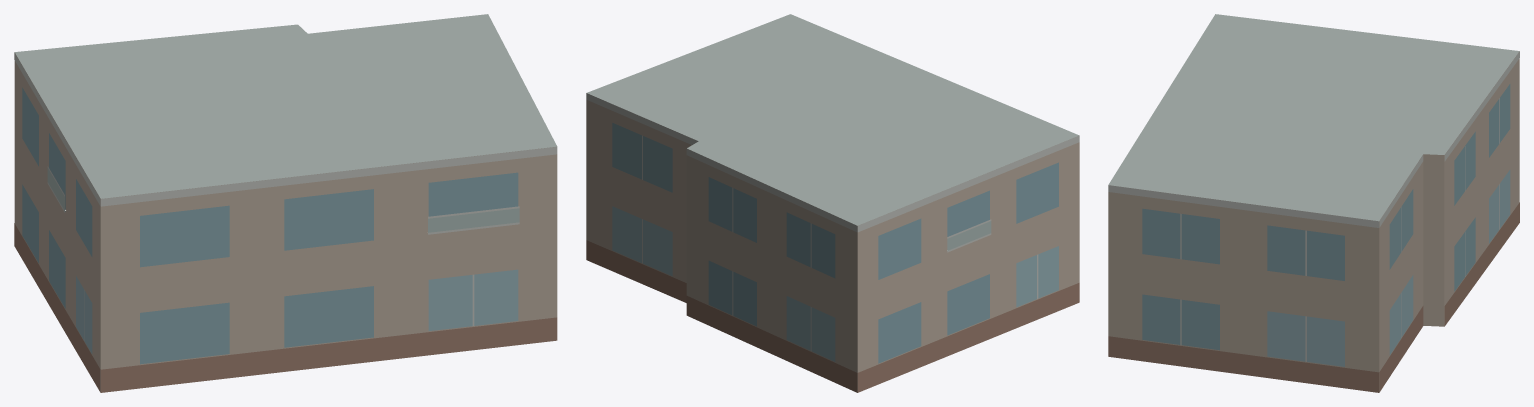
File: survey-upis-32812463.glb
The picture shows the model from 3 angles, left to right: view 1: azimuth 30°, elevation 25°; view 2: azimuth 150°, elevation 25°; view 3: azimuth 270°, elevation 25°; orthographic projection. The views are drawn at different scales.
Parts seen in each view (by area): view 1: survey-upis-32812463.tmp; view 2: survey-upis-32812463.tmp; view 3: survey-upis-32812463.tmp.
Boxes of the visible parts, box(x1,y1,x2,y2) form: survey-upis-32812463.tmp: box(14, 14, 557, 392); survey-upis-32812463.tmp: box(586, 14, 1079, 392); survey-upis-32812463.tmp: box(1108, 14, 1519, 392).
Bounding box in the file's own units: 15.81 × 6.1 × 13.27.
